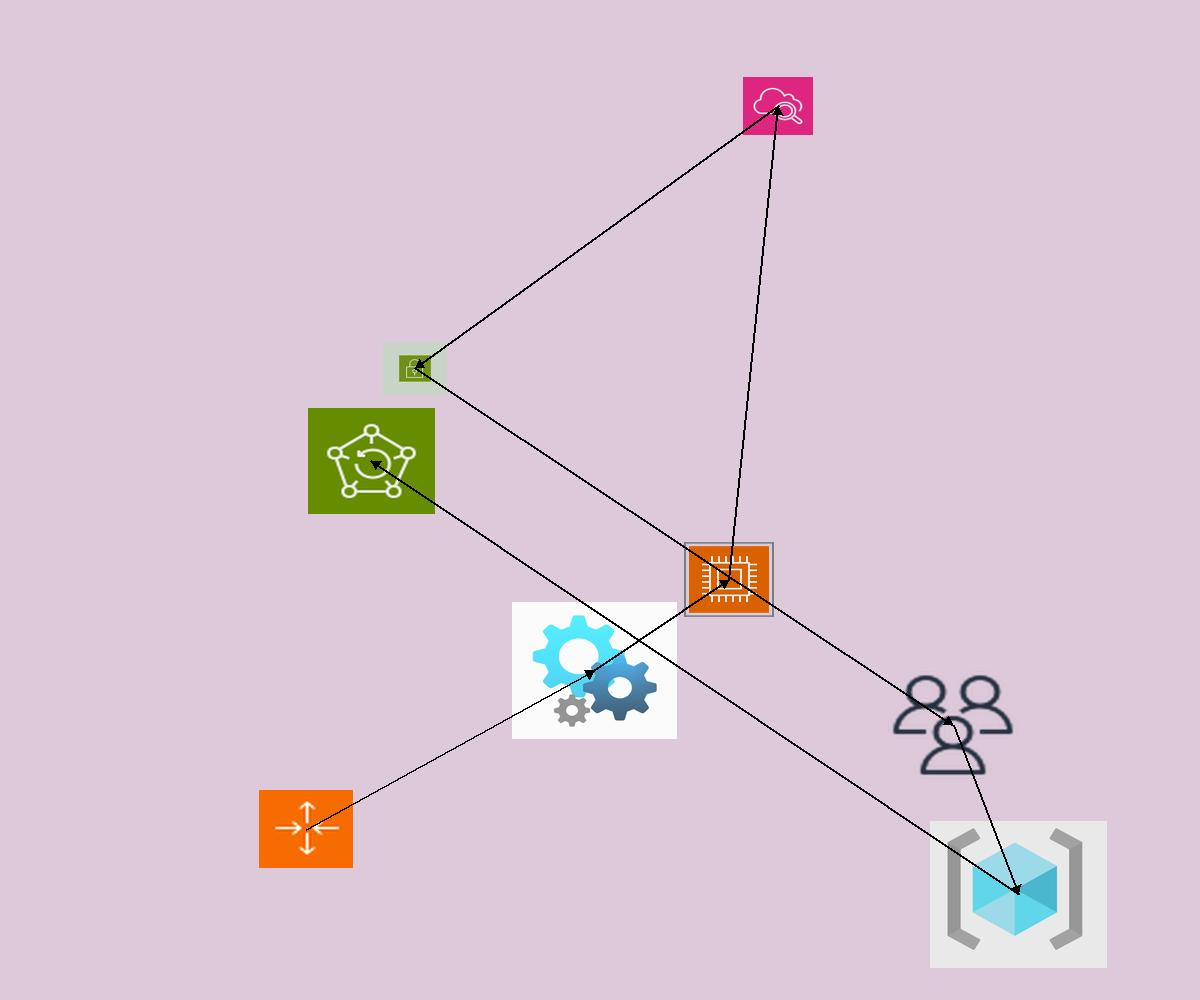AWS-Backup: (308, 408, 435, 514)
AWS-Category_Compute: (684, 542, 774, 617)
AWS-CloudWatch: (743, 77, 813, 135)
AWS-Public-subnet: (383, 342, 447, 395)
AWS-Res_Users: (888, 671, 1018, 779)
AWS-Scaling-group: (259, 790, 353, 868)
Azure_api: (512, 602, 677, 739)
Azure_resource_group: (930, 821, 1107, 968)
